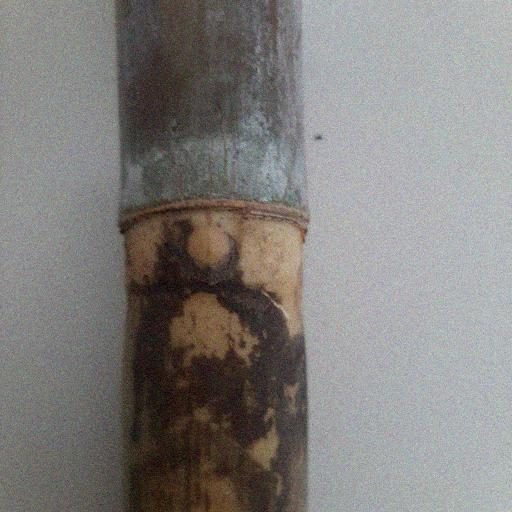Bud: (185, 218, 232, 270)
